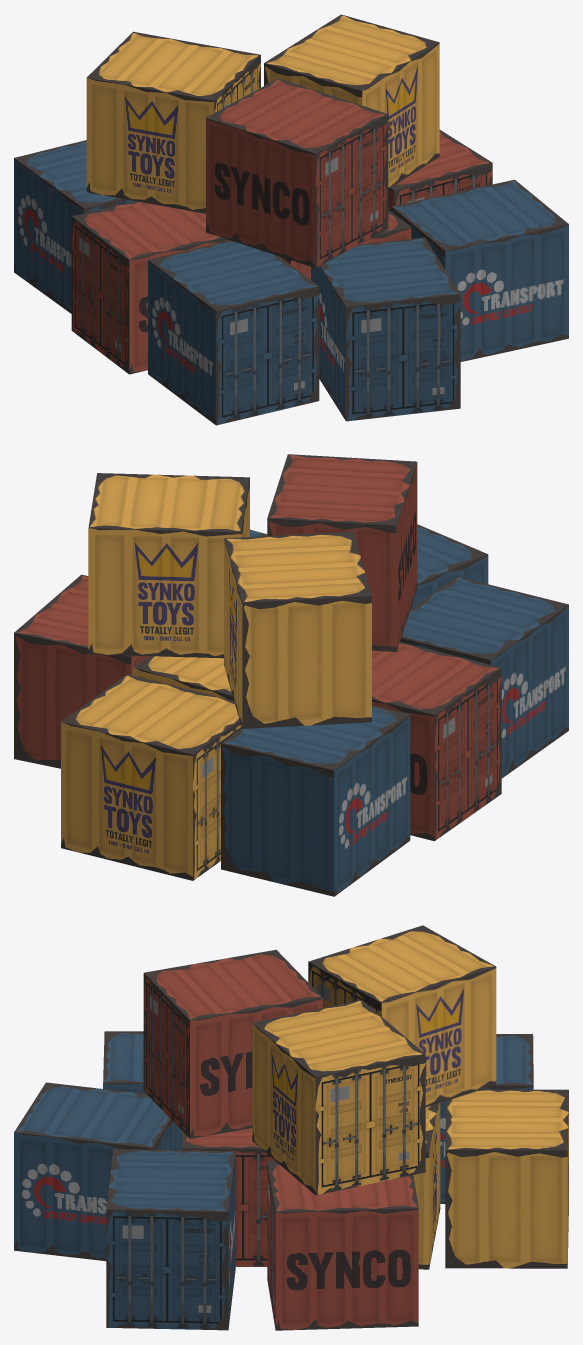
The model's file is SM_Prop_Container_Small_Stack_02.fbx.
3 views of the same model, one above another, from view 1: azimuth 30°, elevation 25°; view 2: azimuth 150°, elevation 25°; view 3: azimuth 270°, elevation 25° (orthographic). The views are drawn at different scales.
Parts seen in each view (by area): view 1: SM_Prop_Container_Small_Stack_02; view 2: SM_Prop_Container_Small_Stack_02; view 3: SM_Prop_Container_Small_Stack_02.
Boxes of the visible parts, x1,y1,x2,y2 form: SM_Prop_Container_Small_Stack_02: [14, 14, 568, 425]; SM_Prop_Container_Small_Stack_02: [14, 454, 568, 896]; SM_Prop_Container_Small_Stack_02: [14, 925, 568, 1330].
Bounding box in the file's own units: 881 × 518 × 1101.
